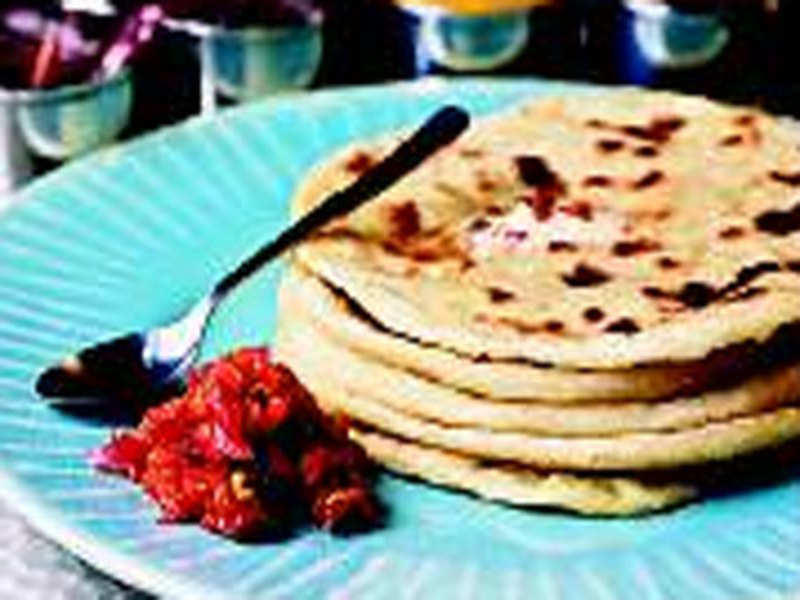aloo_paratha: (289, 95, 800, 514)
